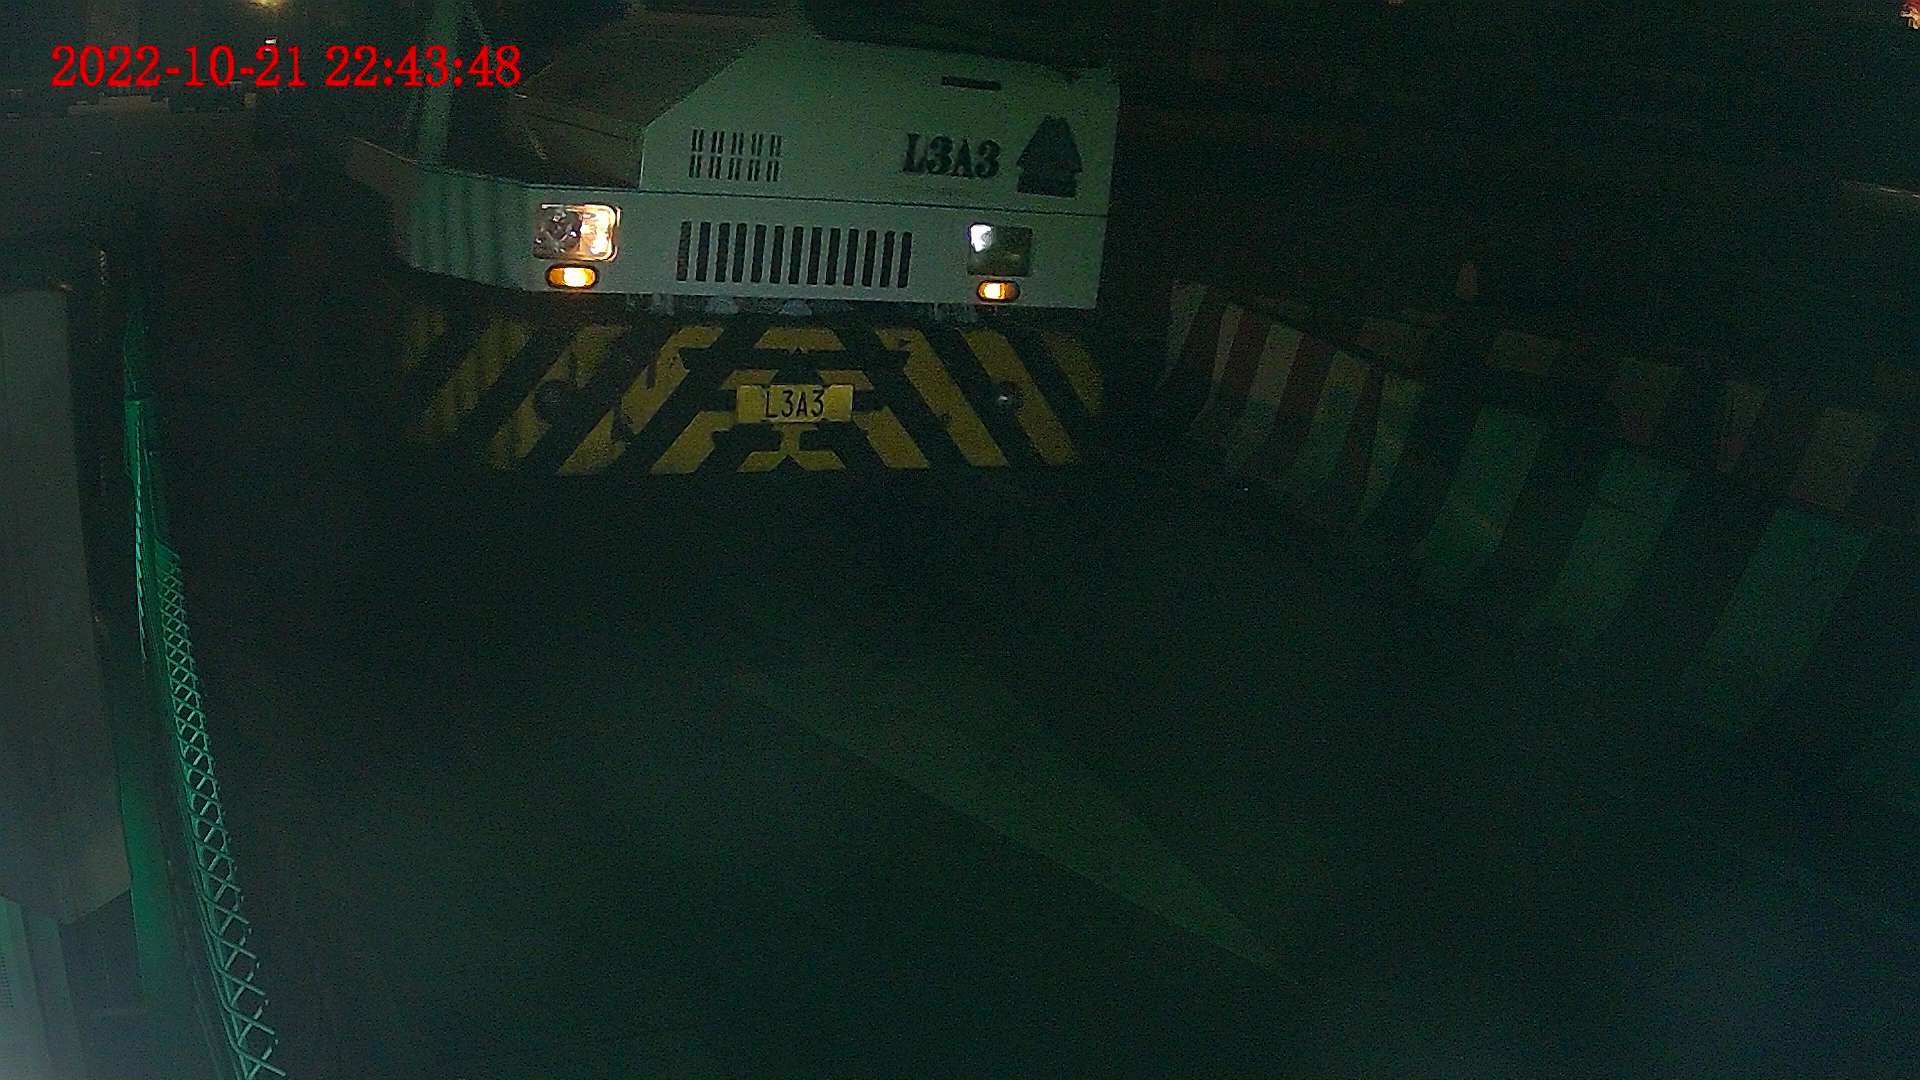head: (339, 1, 1120, 497)
plate: (735, 381, 854, 419)
